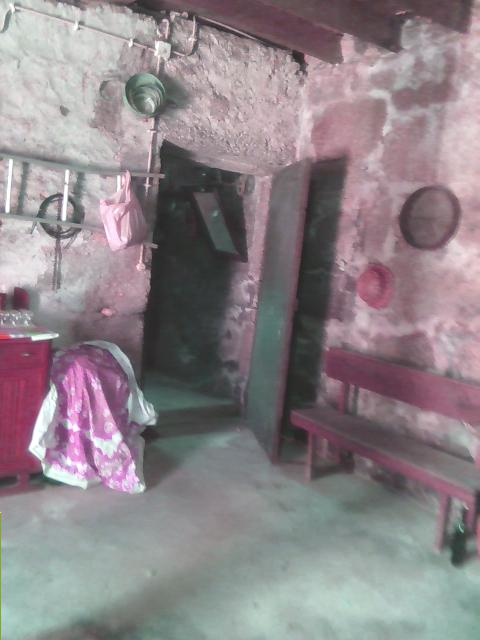open_door: (135, 138, 276, 434)
